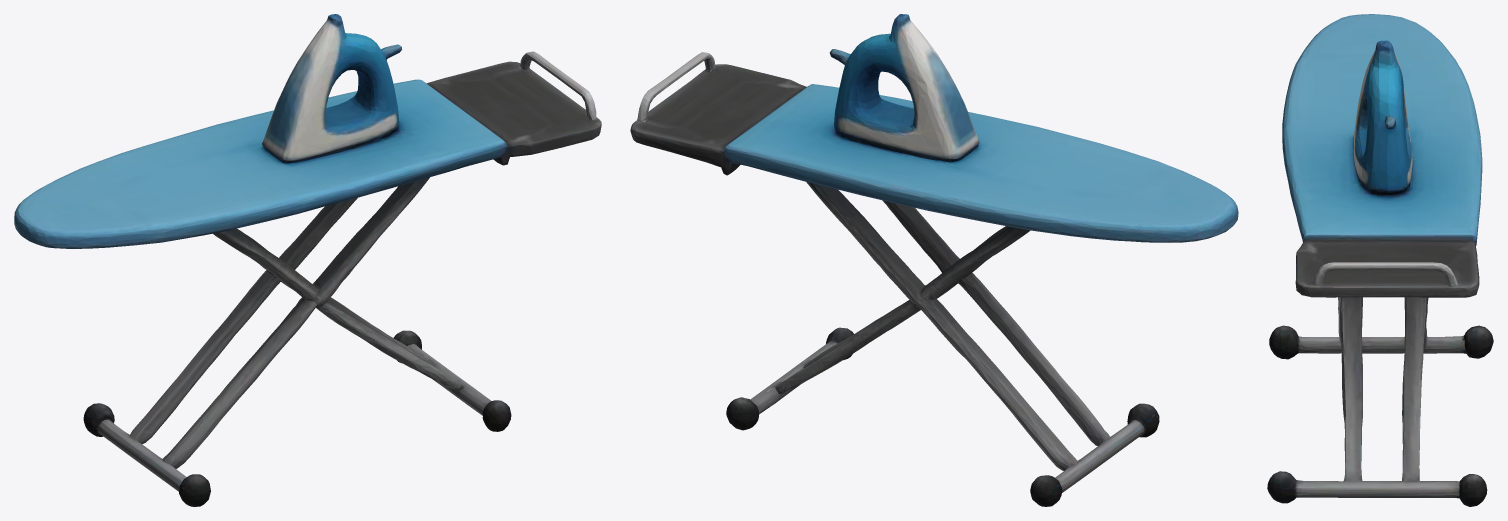
The model's file is ironing board.glb.
The picture shows the model from 3 angles, left to right: view 1: azimuth 30°, elevation 25°; view 2: azimuth 150°, elevation 25°; view 3: azimuth 270°, elevation 25°; orthographic projection.
Visible parts, largest first — view 1: world; view 2: world; view 3: world.
Part boxes in pixels (bbox=[...]): world: bbox=[14, 14, 601, 506]; world: bbox=[630, 14, 1238, 506]; world: bbox=[1267, 14, 1493, 506].
Size of the model in its own units: 0.9974 by 0.7112 by 0.3568.
1 material, 1 textured.
